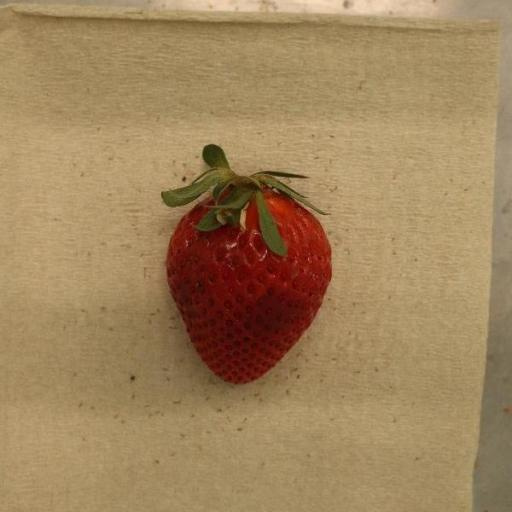Strawberry: (160, 145, 333, 385)
